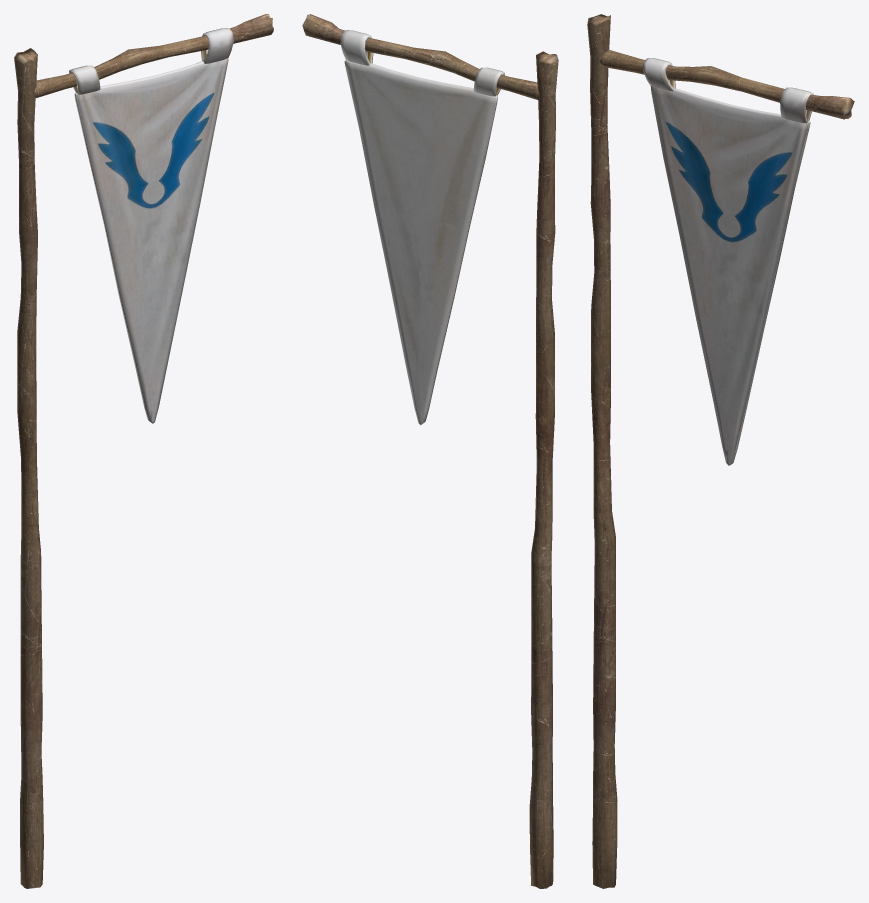
3 views of the same model, side by side, from view 1: azimuth 30°, elevation 25°; view 2: azimuth 150°, elevation 25°; view 3: azimuth 330°, elevation 25° (orthographic). The views are drawn at different scales.
Parts seen in each view (by area): view 1: SM_Single_Banner_Armadyl_01v2_LOD0; view 2: SM_Single_Banner_Armadyl_01v2_LOD0; view 3: SM_Single_Banner_Armadyl_01v2_LOD0.
Boxes of the visible parts, bbox=[...] form: SM_Single_Banner_Armadyl_01v2_LOD0: bbox=[14, 14, 273, 888]; SM_Single_Banner_Armadyl_01v2_LOD0: bbox=[302, 14, 558, 888]; SM_Single_Banner_Armadyl_01v2_LOD0: bbox=[587, 14, 854, 888].
Bounding box in the file's own units: 1.39 × 4.39 × 0.1182.
Materials: 2 (2 with a texture image).
